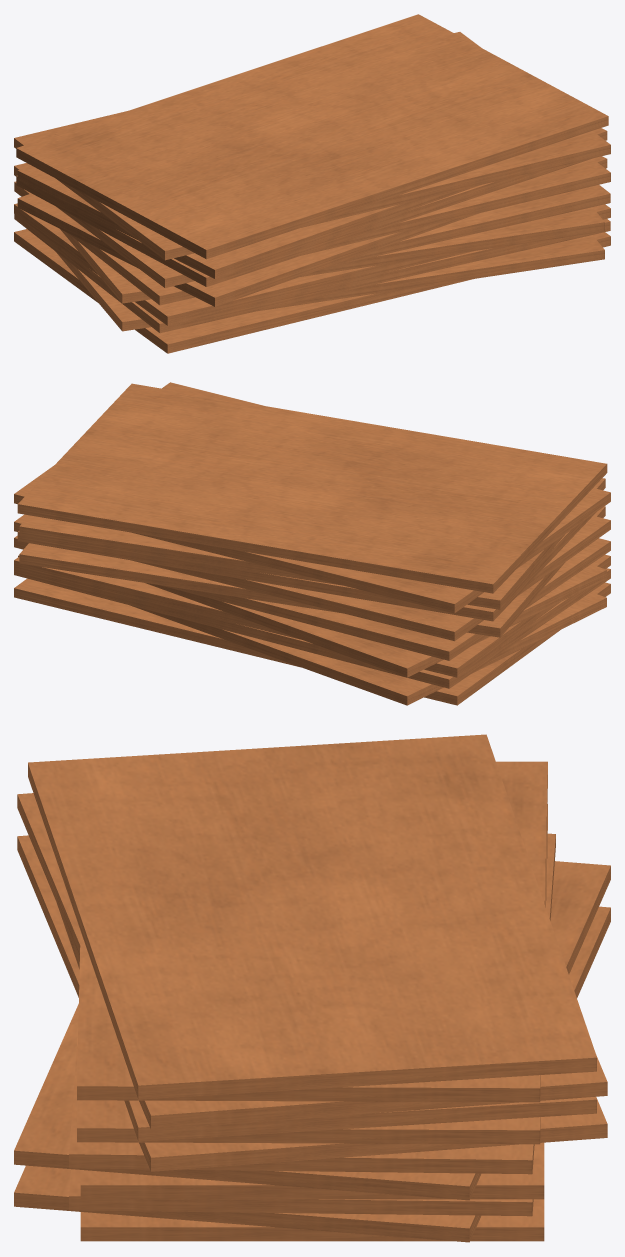
File: WoodBoards.fbx
3 renders of one model, top to bottom at view 1: azimuth 30°, elevation 25°; view 2: azimuth 150°, elevation 25°; view 3: azimuth 270°, elevation 25°, orthographic. The views are drawn at different scales.
Parts seen in each view (by area): view 1: träplatta.001, träplatta; view 2: träplatta.001, träplatta; view 3: träplatta.001, träplatta.
Part boxes in pixels (<box>): träplatta.001: <box>14,14,610,306</box>; träplatta: <box>14,181,610,353</box>; träplatta.001: <box>14,382,610,641</box>; träplatta: <box>14,535,610,705</box>; träplatta.001: <box>17,734,607,1171</box>; träplatta: <box>14,833,610,1242</box>.
Bounding box in the file's own units: 0.3864 × 0.5464 × 0.12.
1 material, 1 textured.
